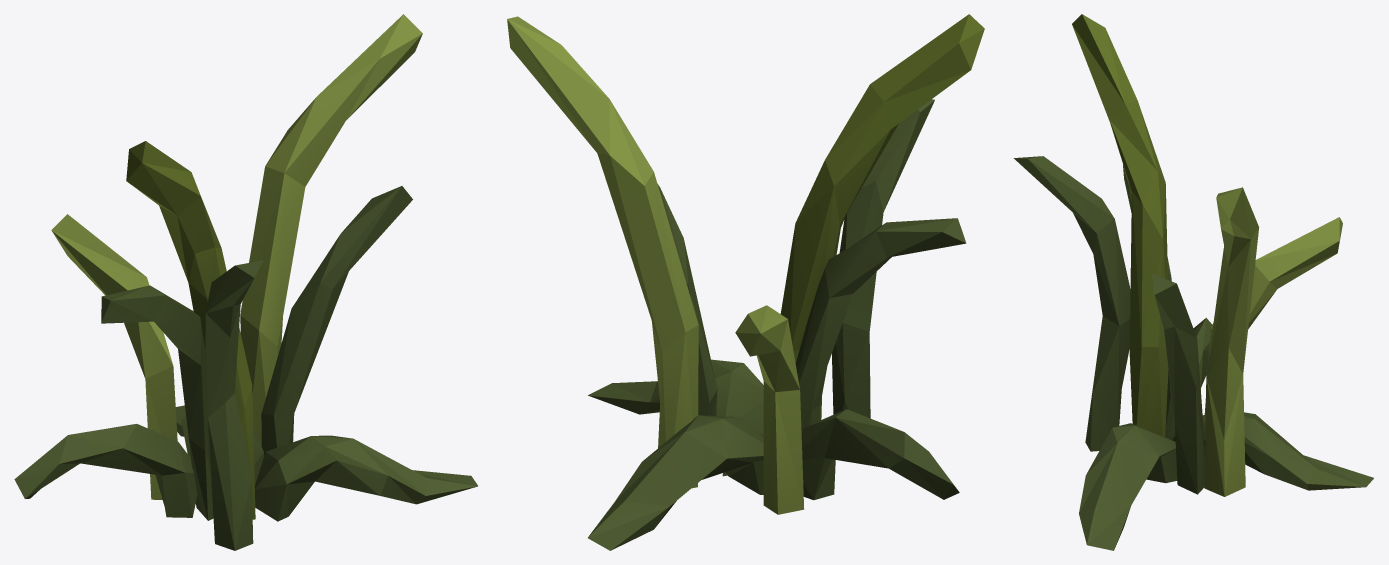
The model's file is swamp_grass_a_low.glb.
3 views of the same model, side by side, from view 1: azimuth 30°, elevation 25°; view 2: azimuth 150°, elevation 25°; view 3: azimuth 270°, elevation 25° (orthographic). The views are drawn at different scales.
Bounding box in the file's own units: 0.9292 × 0.9484 × 0.7905.
